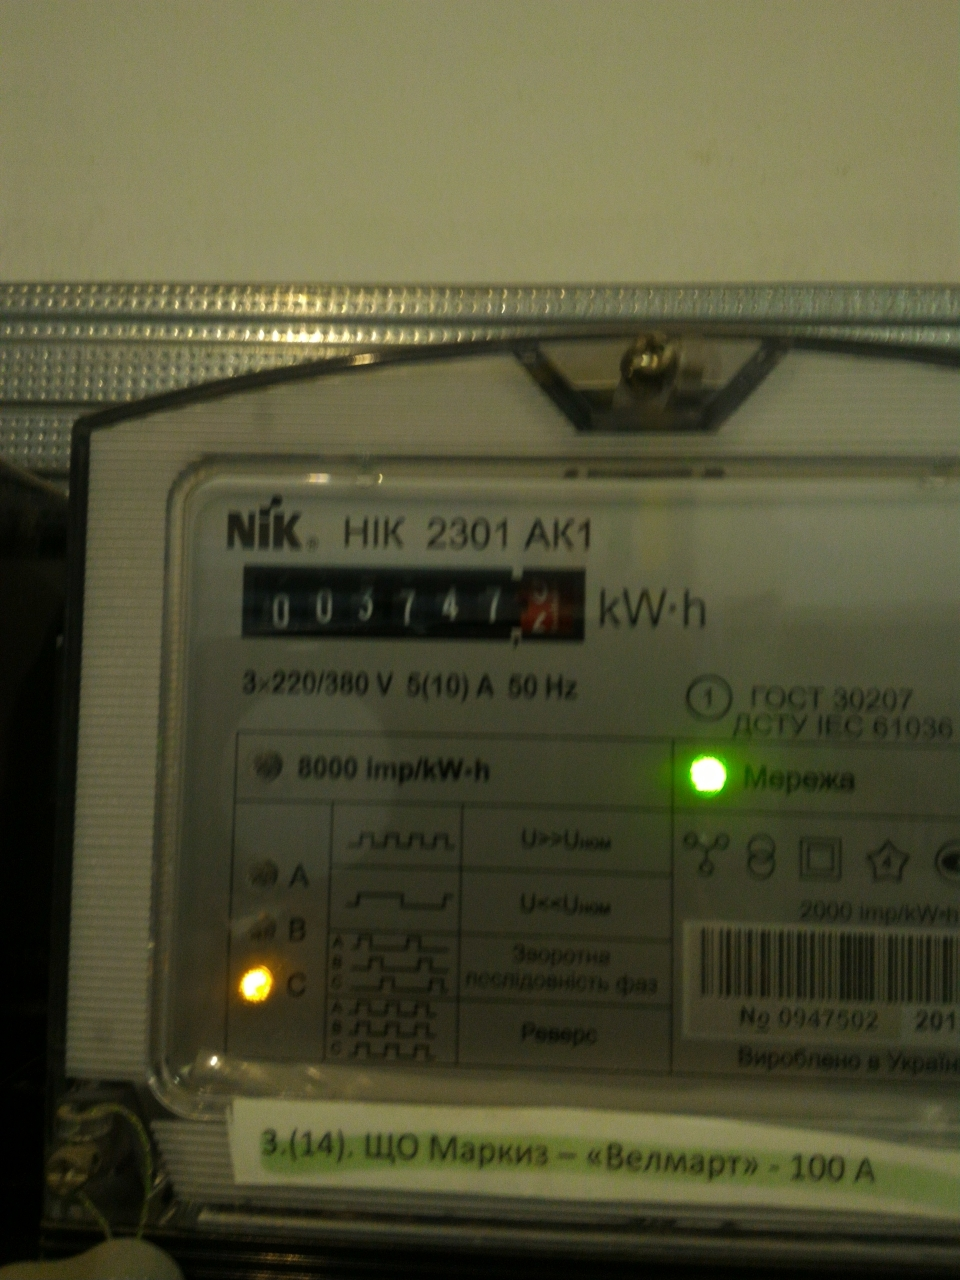0: (312, 584, 336, 627), (269, 590, 291, 630)
3: (355, 582, 375, 625)
4: (437, 582, 461, 624)
7: (482, 582, 505, 624), (396, 585, 418, 628)
screen: (225, 552, 608, 660)
x: (529, 574, 555, 635)
